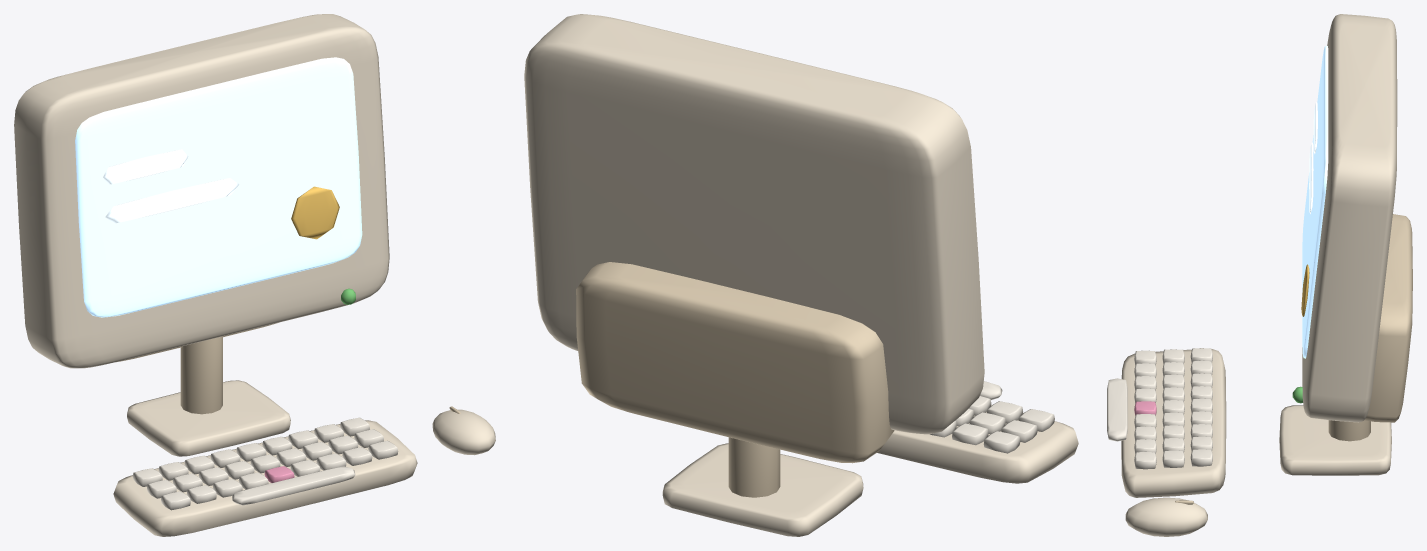
The model's file is screen.glb.
The picture shows the model from 3 angles, left to right: view 1: azimuth 30°, elevation 25°; view 2: azimuth 150°, elevation 25°; view 3: azimuth 270°, elevation 25°; orthographic projection. The views are drawn at different scales.
Parts seen in each view (by area): view 1: screen; view 2: screen; view 3: screen.
Boxes of the visible parts, x1,y1,x2,y2 form: screen: [14, 14, 495, 536]; screen: [524, 14, 1078, 536]; screen: [1107, 14, 1412, 536].
Bounding box in the file's own units: 0.6 × 0.5748 × 0.4346.
Materials: 1 (1 with a texture image).
